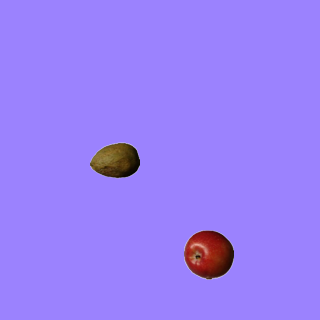Apple Braeburn: (183, 229, 233, 279)
Papaya: (89, 135, 139, 185)
